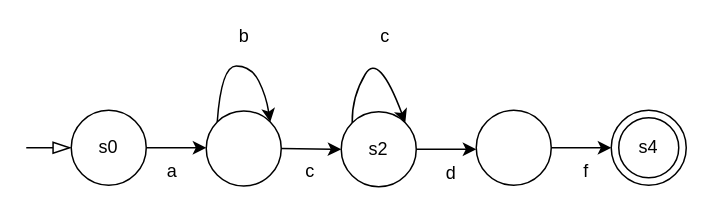
This 713x213 diagram has some shape labels left out. Each missing label, with the centre of its shape:
"s1" goes at (243,148).
"s3" goes at (513,147).
